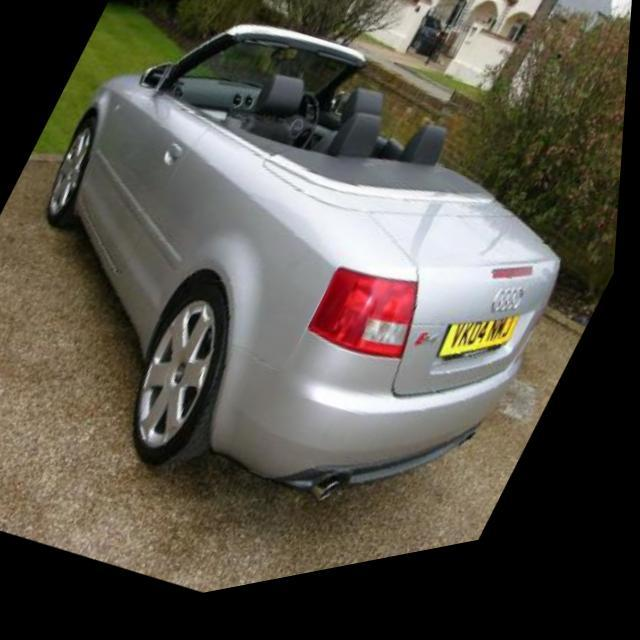license_plate: (436, 307, 528, 403), (442, 53, 446, 59)
